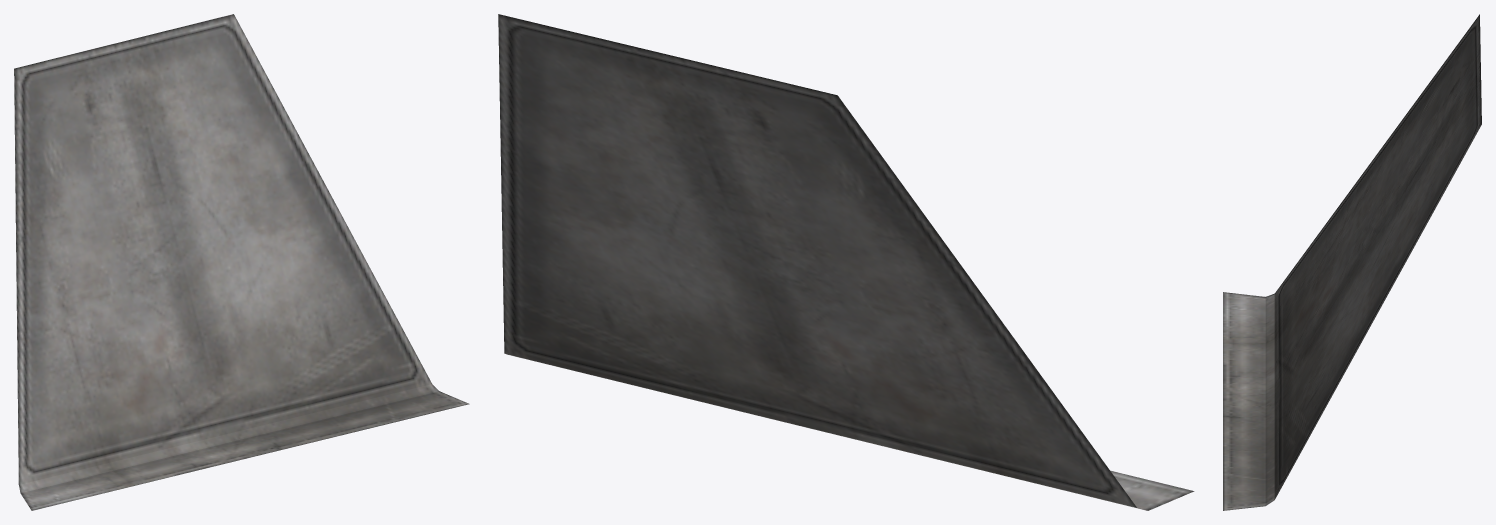
Rendered from 04_02_tau_top_small.DAE.
The picture shows the model from 3 angles, left to right: view 1: azimuth 30°, elevation 25°; view 2: azimuth 150°, elevation 25°; view 3: azimuth 270°, elevation 25°; orthographic projection. The views are drawn at different scales.
Visible parts, largest first — view 1: Object010; view 2: Object010; view 3: Object010.
Boxes of the visible parts, <box> form: Object010: <box>14,14,469,510</box>; Object010: <box>498,14,1194,510</box>; Object010: <box>1223,14,1481,510</box>.
Size of the model in its own units: 5.66 by 4 by 2.83.
